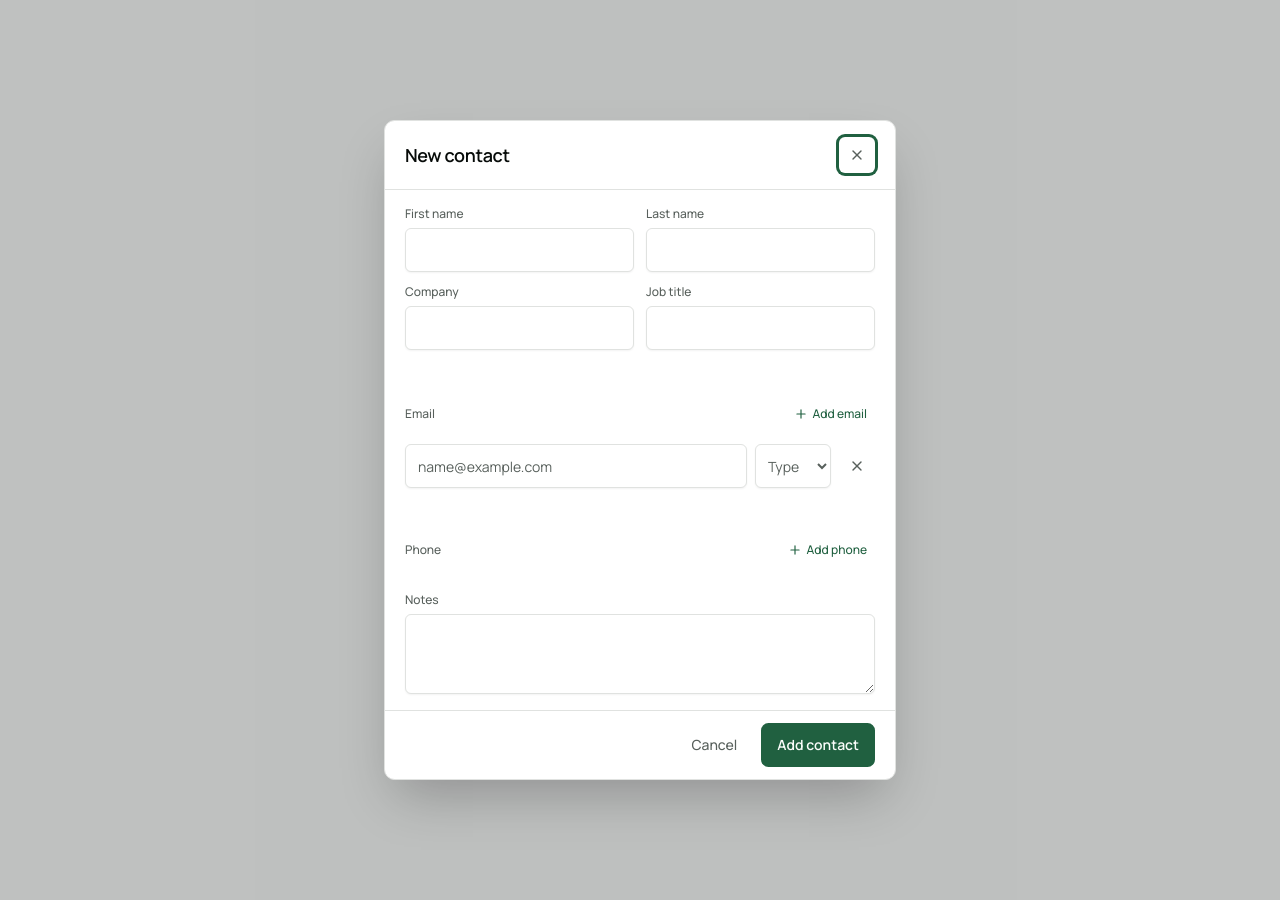
it: ContactModal — create › surfaces a save error and keeps the dialog open
The image size is (1280, 900).
Type "grace@x.com" into the field named "Email 1" at (576, 466), box [405,444,747,488]
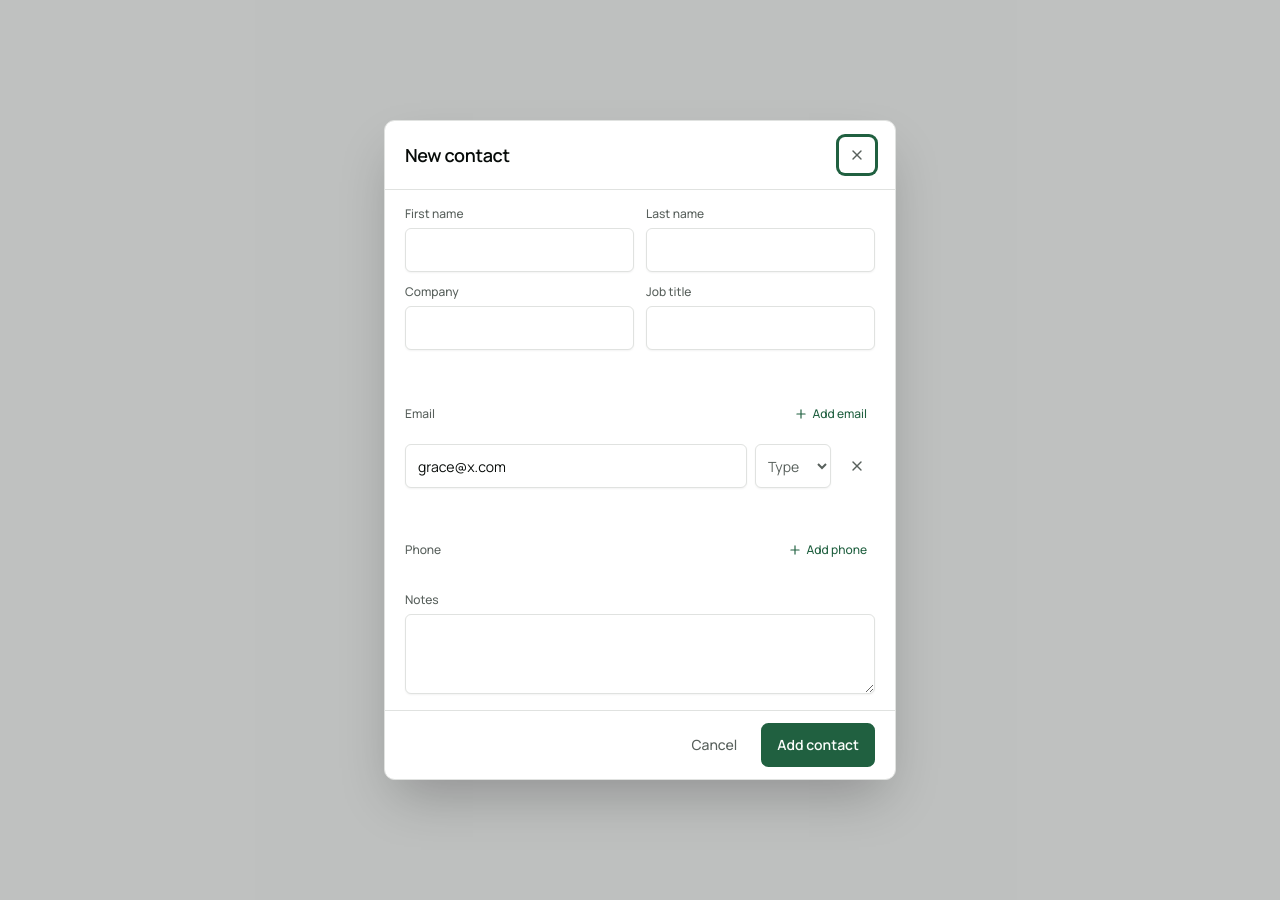
Click the button "Add contact" at (818, 745), box [761,723,875,767]
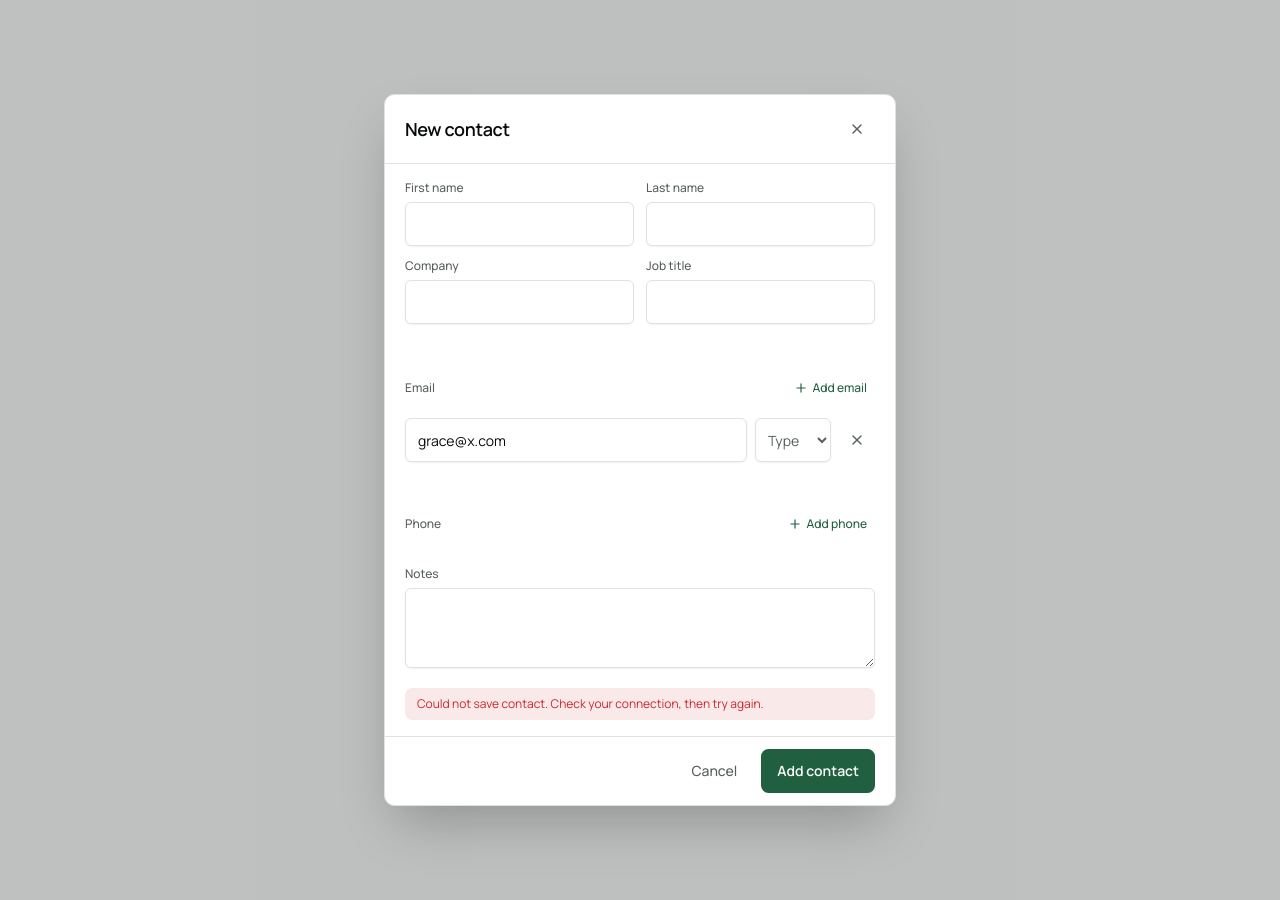
Check: the message reads "Could not save contact. Check your connection, then try again.", box [417,695,764,712]
Replace the text in the field named "Email 1" with "retry@x.com" at (576, 440), box [405,418,747,462]
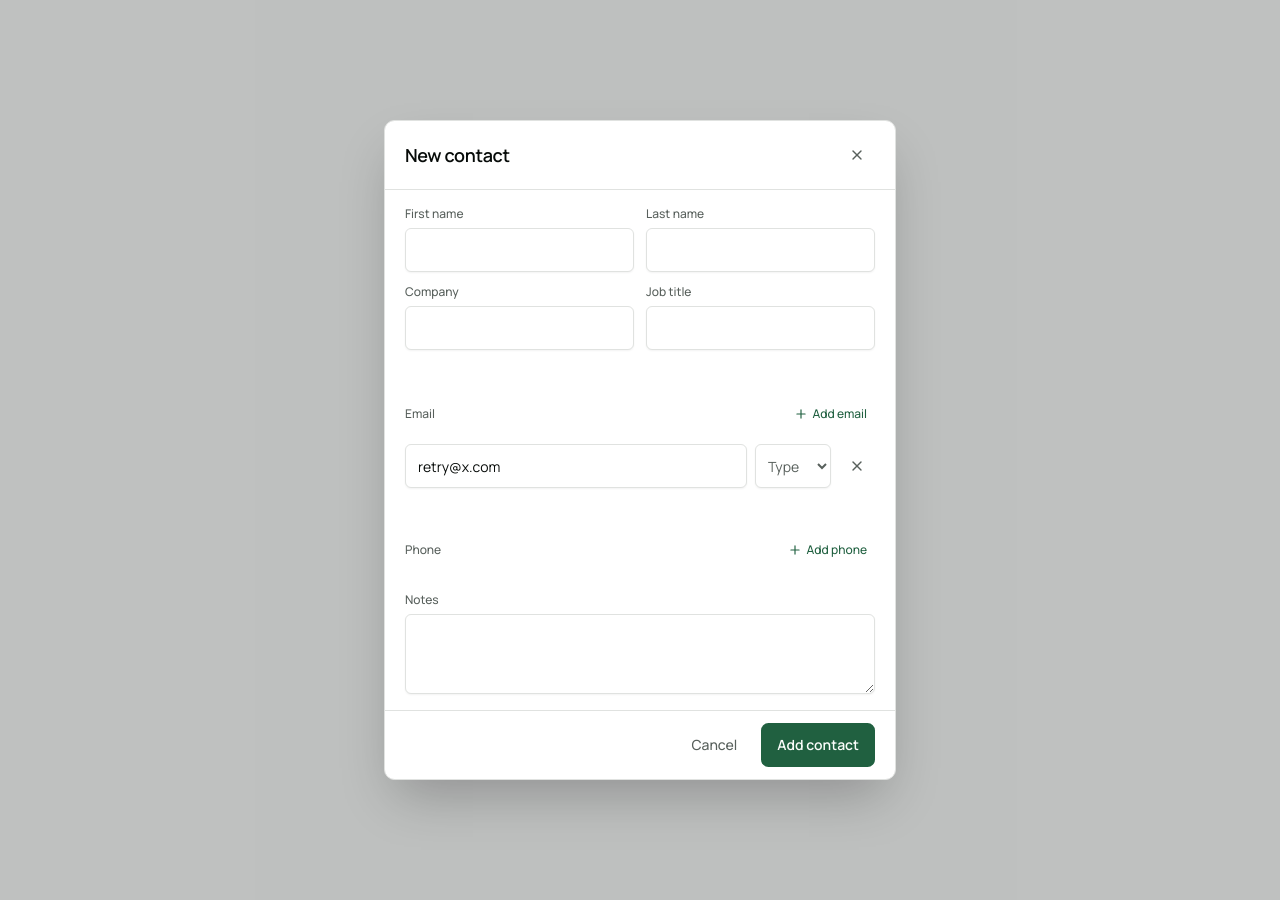
Check: the button "Add contact" is enabled, box [761,723,875,767]
Check: the message "Could not save contact. Check your connection, then try again." is gone
